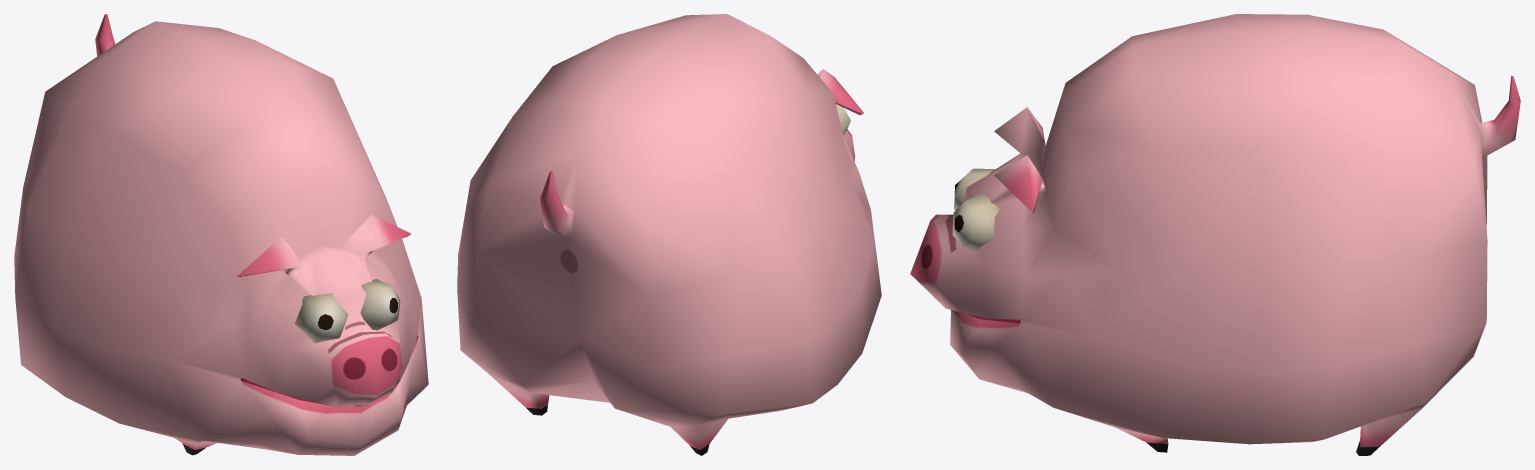
Rendered from farm_pig.fbx.
3 renders of one model, left to right at view 1: azimuth 30°, elevation 25°; view 2: azimuth 150°, elevation 25°; view 3: azimuth 270°, elevation 25°, orthographic. The views are drawn at different scales.
Visible parts, largest first — view 1: farm:pig; view 2: farm:pig; view 3: farm:pig.
Part boxes in pixels (x1,y1,x2,y2): farm:pig: (14,14,428,455); farm:pig: (457,14,881,455); farm:pig: (910,14,1520,455).
Bounding box in the file's own units: 1.43 × 1.38 × 1.99.
